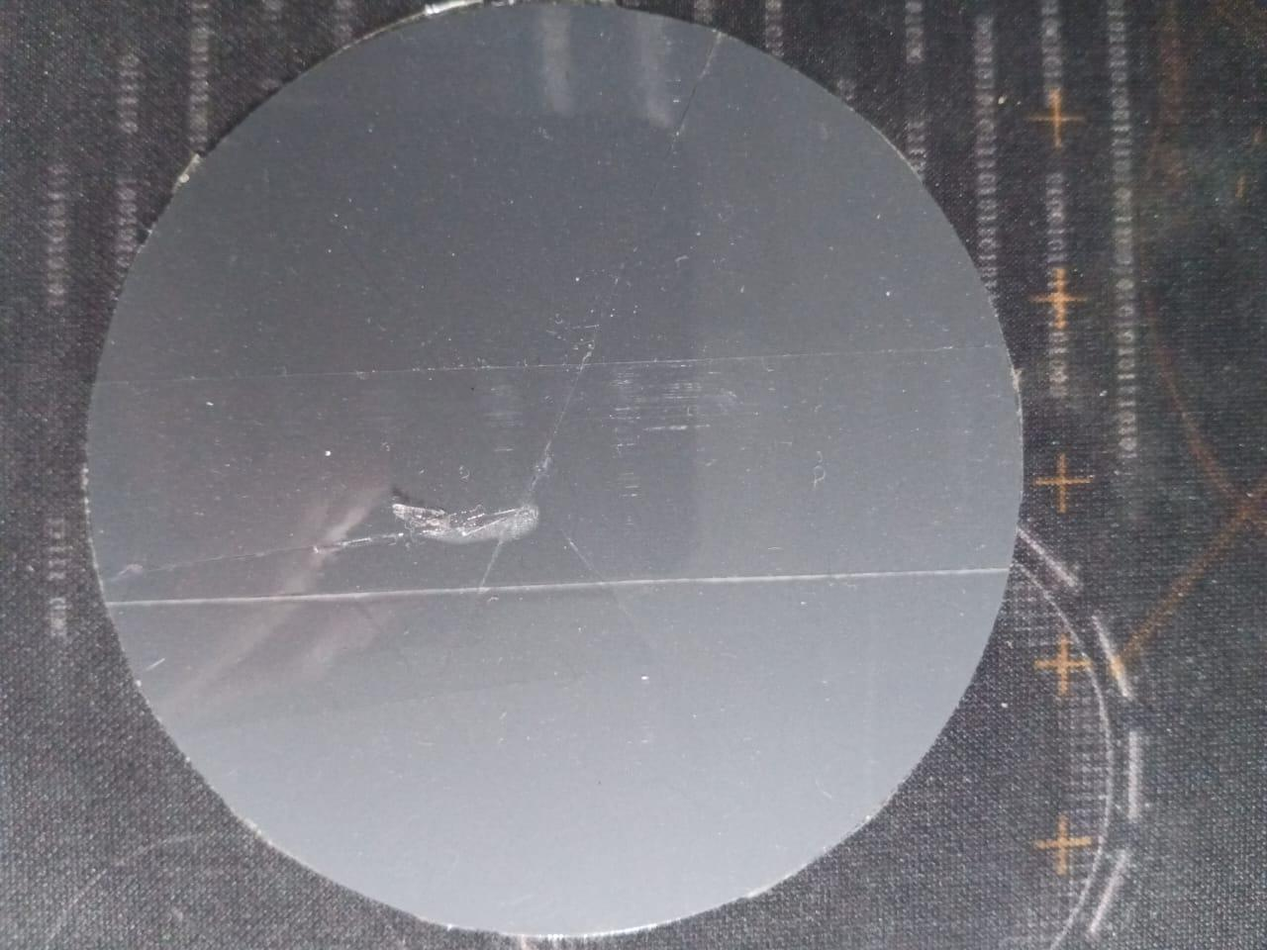crack: (514, 26, 736, 510), (104, 540, 1021, 634), (84, 327, 1012, 402)
scratch: (379, 481, 543, 547), (287, 485, 380, 552)
